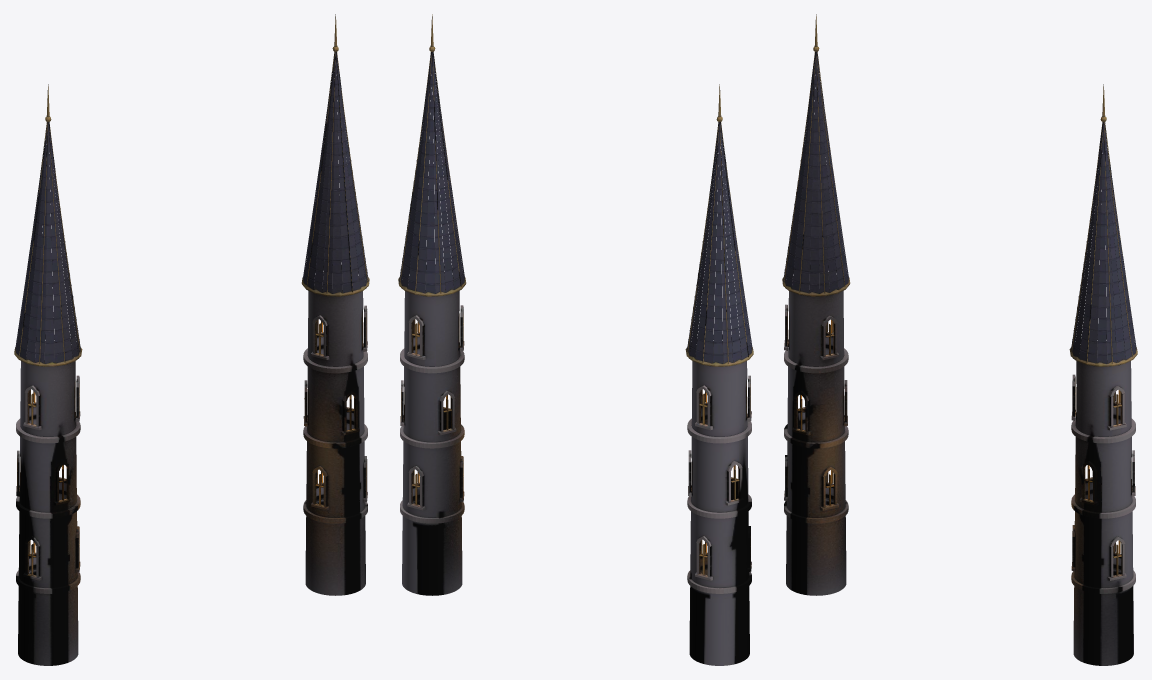
Rendered from expand_rear_towers.glb.
The picture shows the model from 3 angles, left to right: view 1: azimuth 30°, elevation 25°; view 2: azimuth 150°, elevation 25°; view 3: azimuth 330°, elevation 25°; orthographic projection.
Parts seen in each view (by area): view 1: expand_rear_towers_GI; view 2: expand_rear_towers_GI; view 3: expand_rear_towers_GI.
Boxes of the visible parts, <box> form: expand_rear_towers_GI: <box>14,14,369,665</box>; expand_rear_towers_GI: <box>398,14,753,665</box>; expand_rear_towers_GI: <box>782,14,1137,665</box>.
Size of the model in its own units: 26.55 by 41.6 by 4.55.
Materials: 1 (1 with a texture image).
